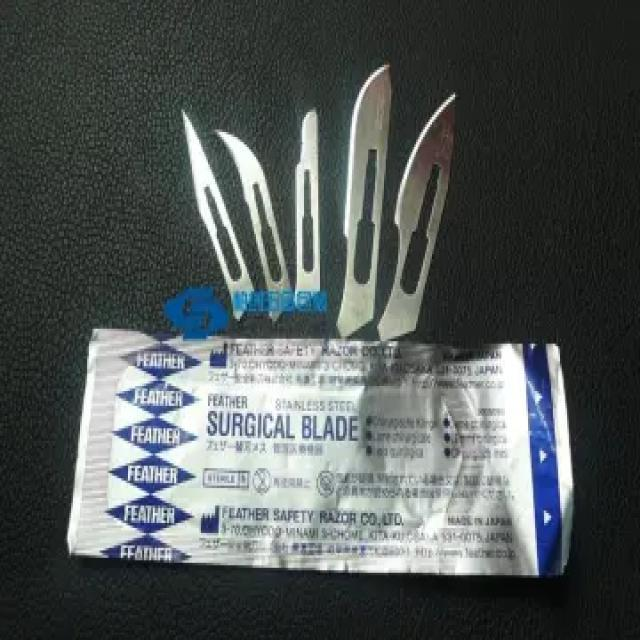Surgical blade: (372, 84, 464, 339), (330, 54, 404, 336), (177, 100, 252, 328), (214, 115, 293, 324), (288, 103, 324, 298)
